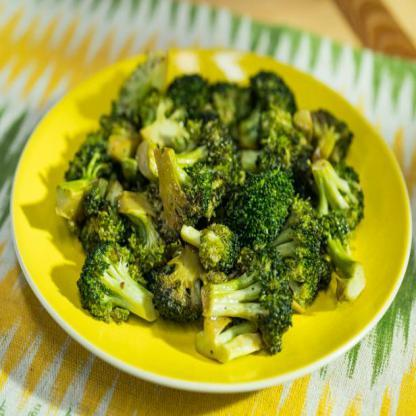broccoli: (51, 56, 367, 363)
